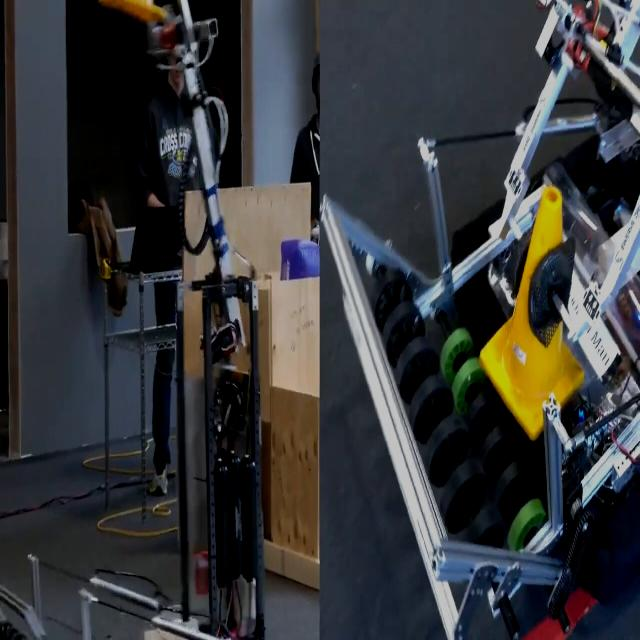frc_cone: (479, 189, 588, 435), (91, 0, 169, 24)
frc_cube: (279, 232, 320, 294)
